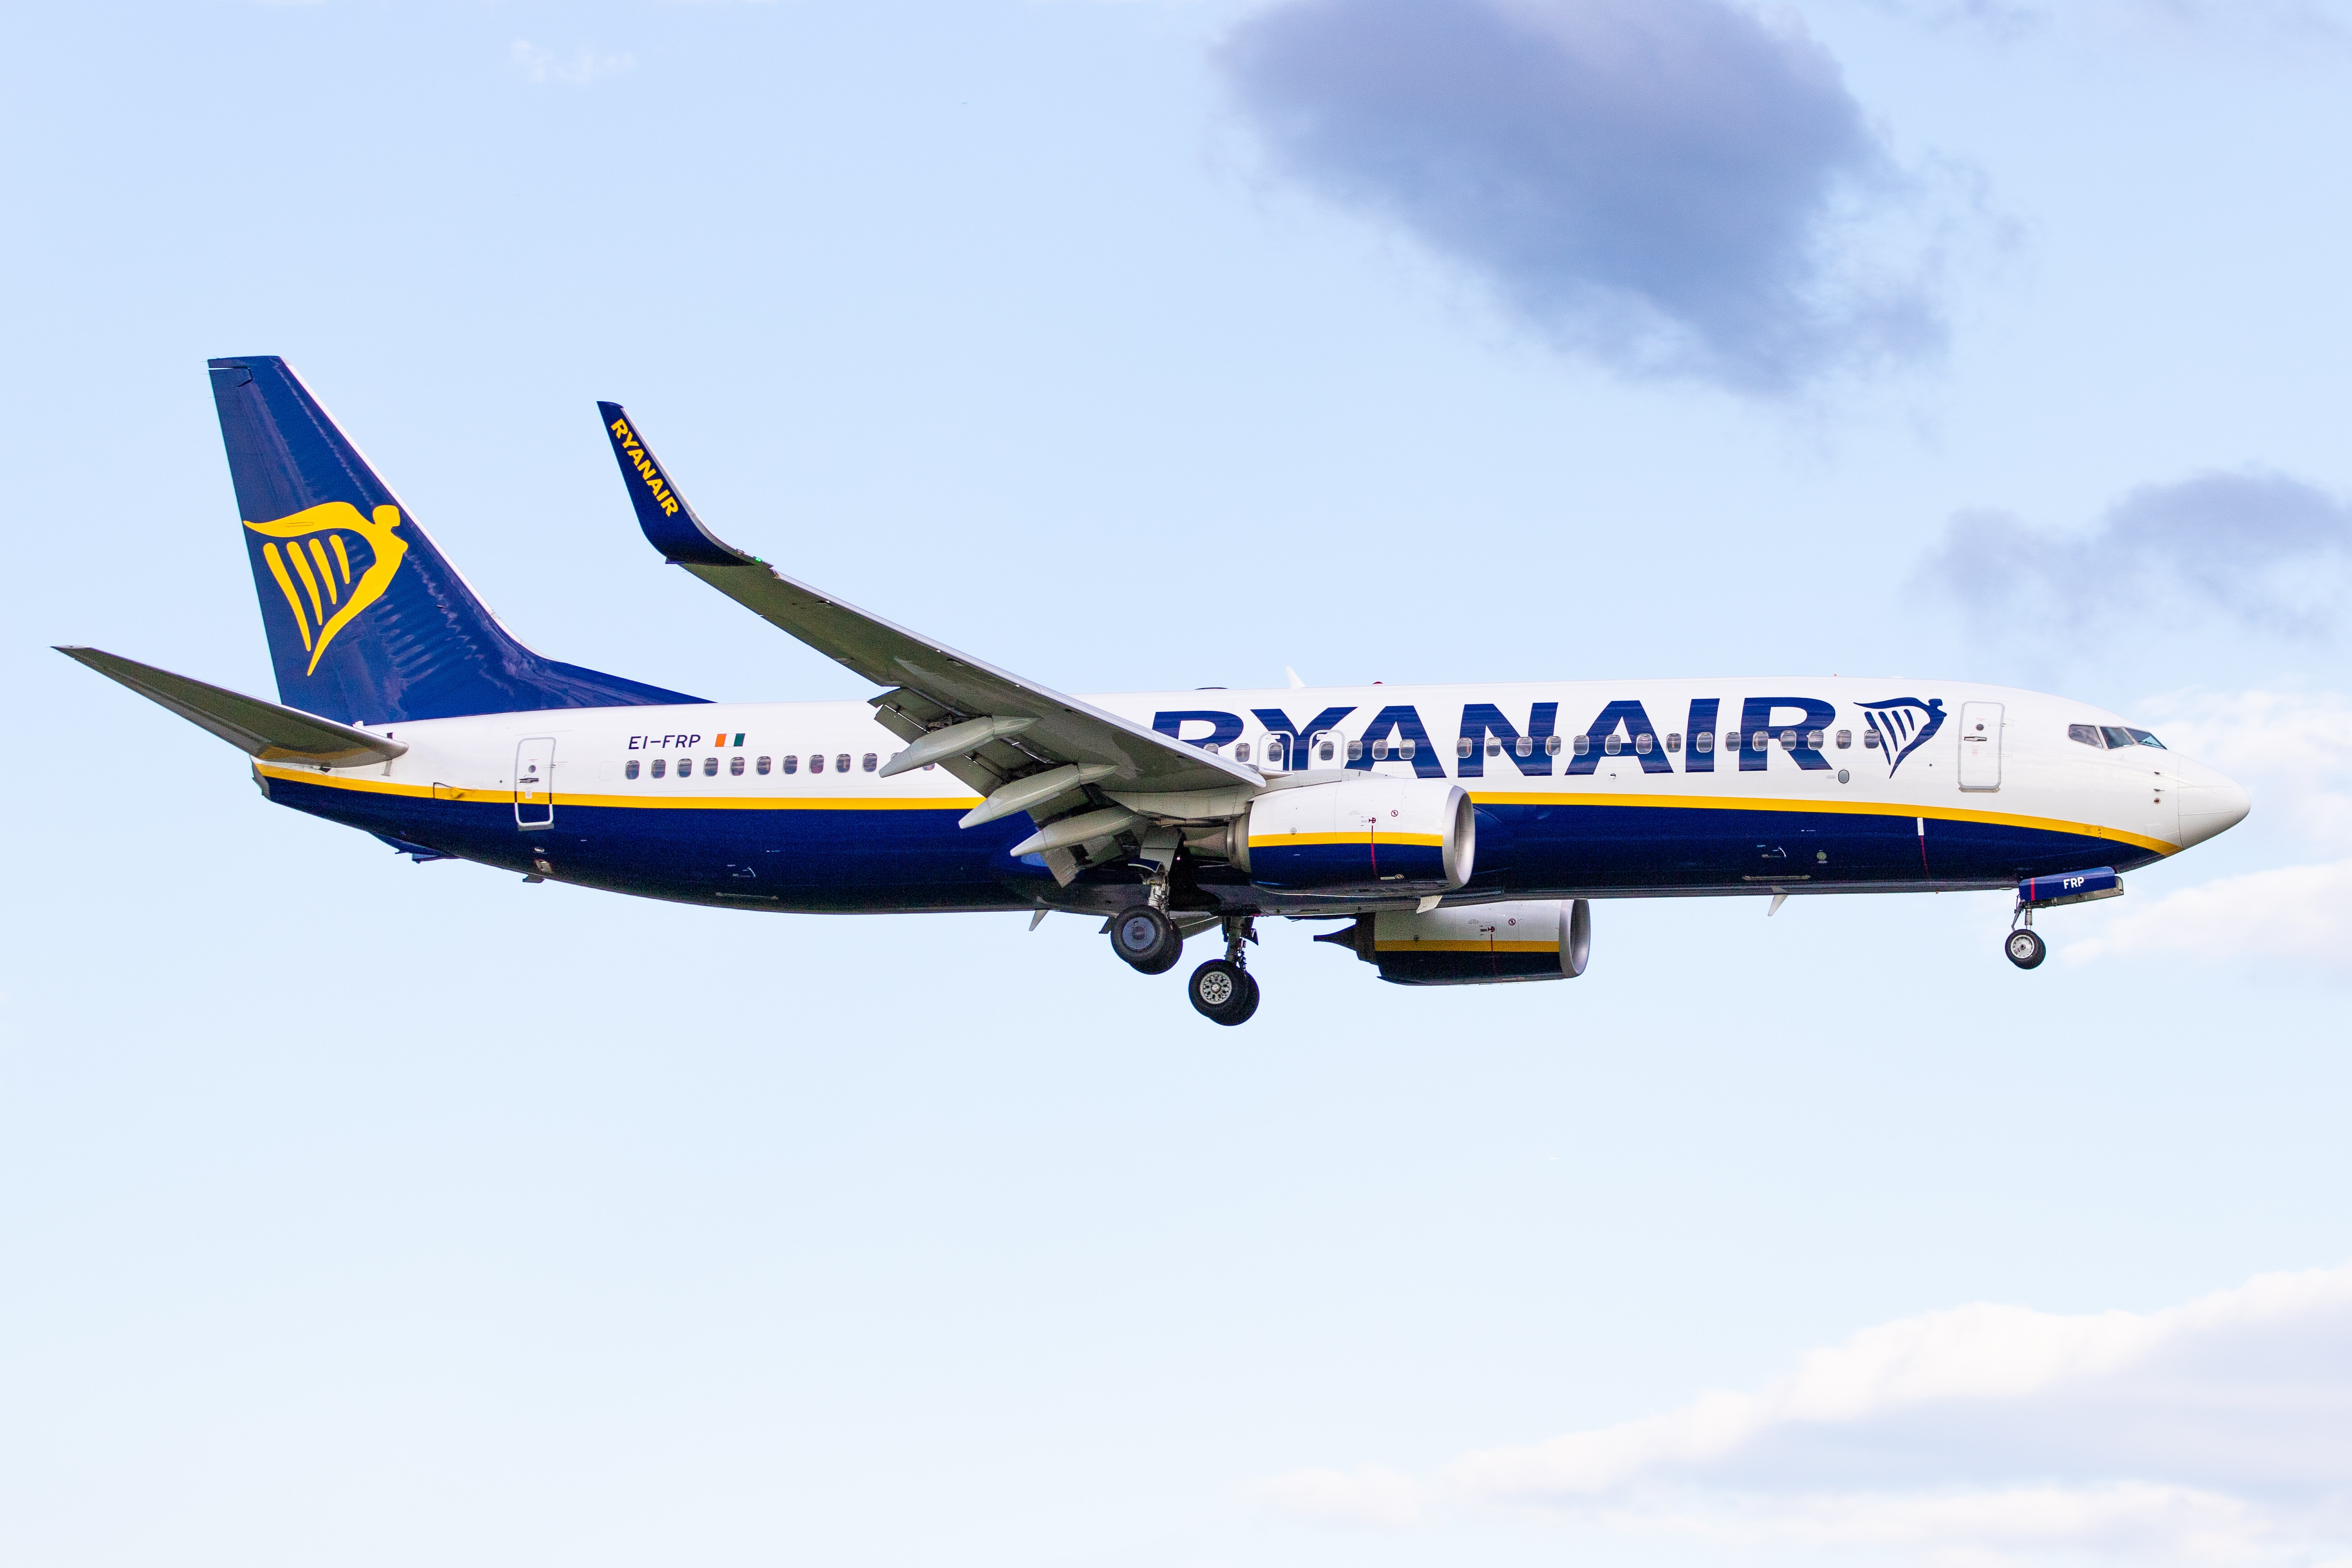airplane: (24, 226, 2352, 1141)
